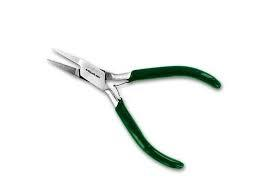pliers: (45, 46, 221, 168)
